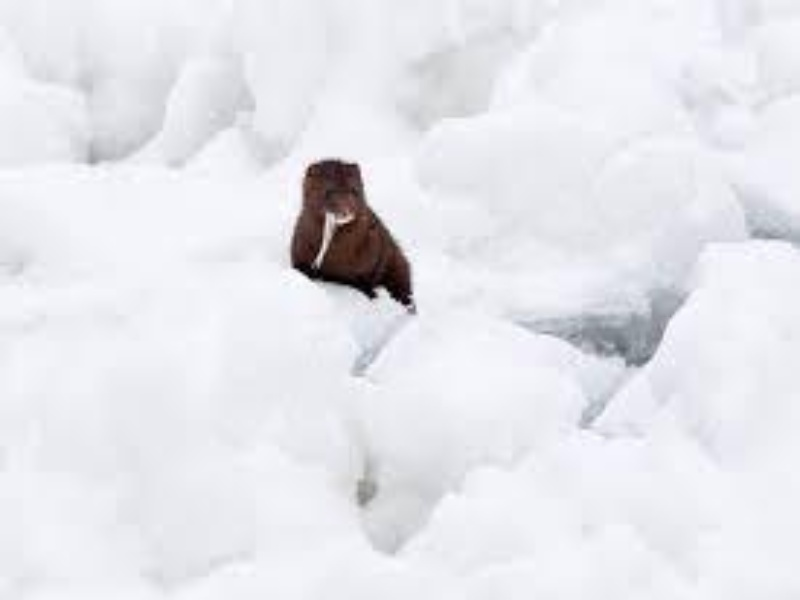minkish: (288, 158, 416, 313)
